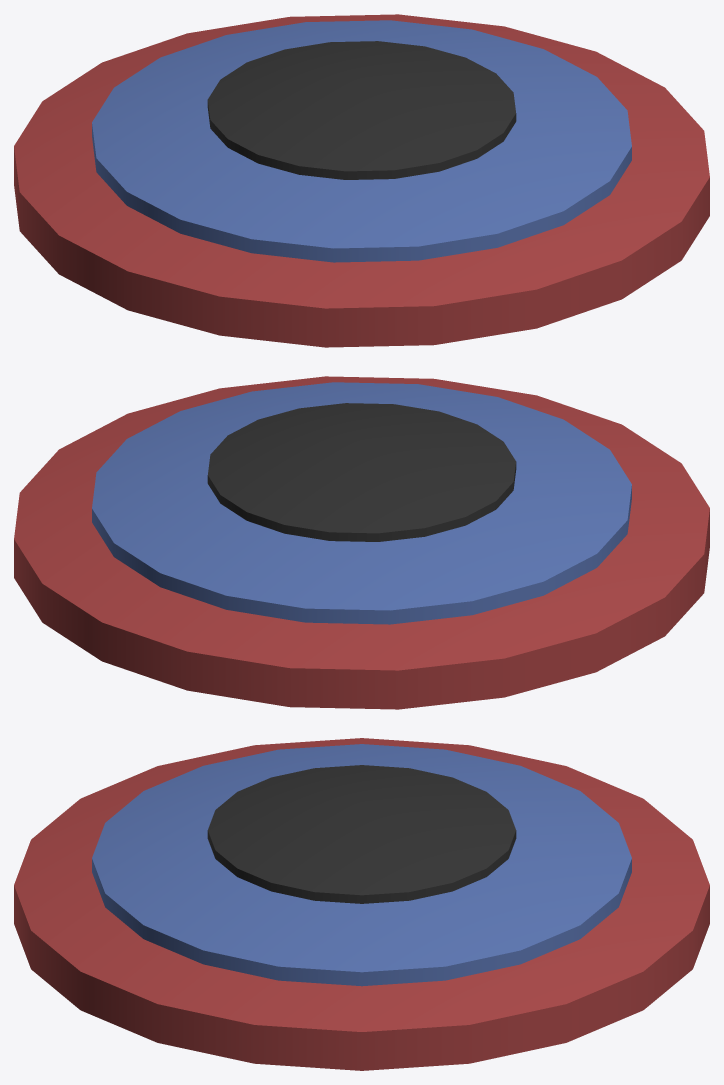
The model's file is Clawie_Eye.fbx.
The picture shows the model from 3 angles, top to bottom: view 1: azimuth 30°, elevation 25°; view 2: azimuth 150°, elevation 25°; view 3: azimuth 270°, elevation 25°; orthographic projection.
Parts seen in each view (by area): view 1: Clawie_Eye_Platform, Clawie_Eye, Clawie_Eye_Pupil; view 2: Clawie_Eye_Platform, Clawie_Eye, Clawie_Eye_Pupil; view 3: Clawie_Eye_Platform, Clawie_Eye, Clawie_Eye_Pupil.
Part boxes in pixels (x1=…): Clawie_Eye_Platform: x1=14, y1=14, x2=709, y2=347; Clawie_Eye: x1=92, y1=20, x2=631, y2=262; Clawie_Eye_Pupil: x1=207, y1=41, x2=516, y2=179; Clawie_Eye_Platform: x1=14, y1=376, x2=709, y2=709; Clawie_Eye: x1=92, y1=382, x2=631, y2=624; Clawie_Eye_Pupil: x1=207, y1=403, x2=516, y2=541; Clawie_Eye_Platform: x1=14, y1=738, x2=709, y2=1070; Clawie_Eye: x1=92, y1=744, x2=631, y2=986; Clawie_Eye_Pupil: x1=207, y1=765, x2=516, y2=903.
Size of the model in its own units: 0.792 by 0.1952 by 0.792.
